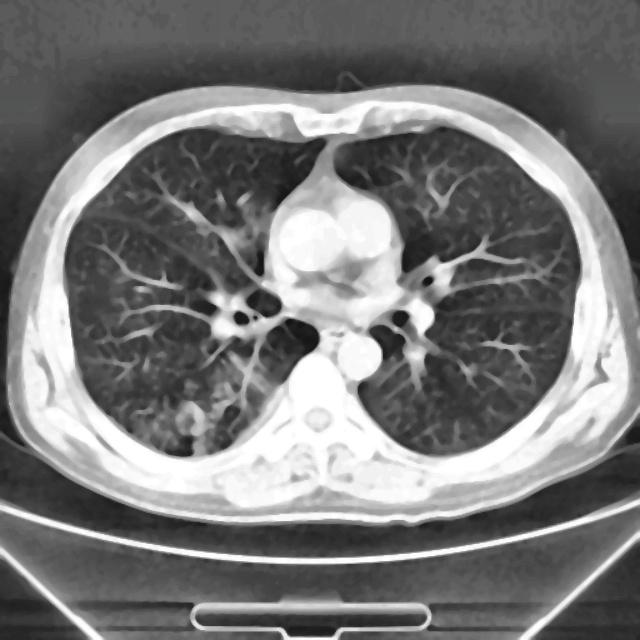covid: (5, 82, 638, 527)
